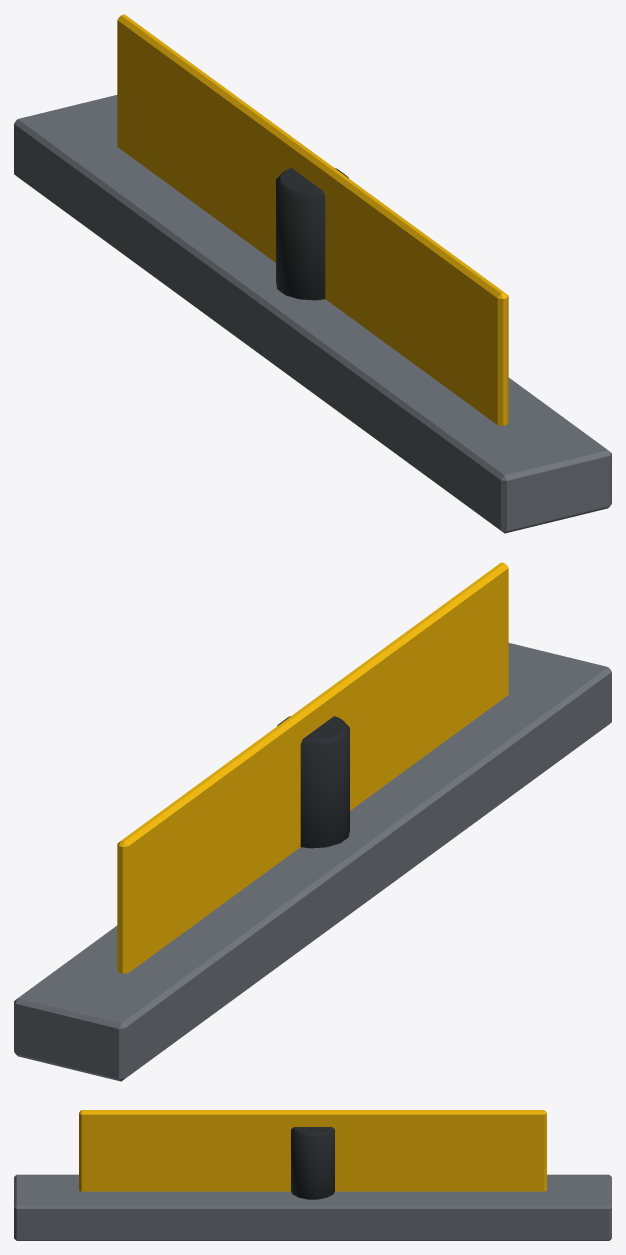
File: stop_blade.glb
3 renders of one model, top to bottom at view 1: azimuth 30°, elevation 25°; view 2: azimuth 150°, elevation 25°; view 3: azimuth 270°, elevation 25°, orthographic. The views are drawn at different scales.
Visible parts, largest first — view 1: Stop_Static, Blade; view 2: Stop_Static, Blade; view 3: Blade, Stop_Static.
Part boxes in pixels (box(x1,y1,x2,y2)): Stop_Static: box(14, 95, 611, 533); Blade: box(117, 14, 508, 425); Stop_Static: box(14, 643, 611, 1081); Blade: box(117, 562, 508, 973); Blade: box(79, 1110, 546, 1191); Stop_Static: box(14, 1127, 611, 1240).
Size of the model in its own units: 0.12 by 0.195 by 0.92.
